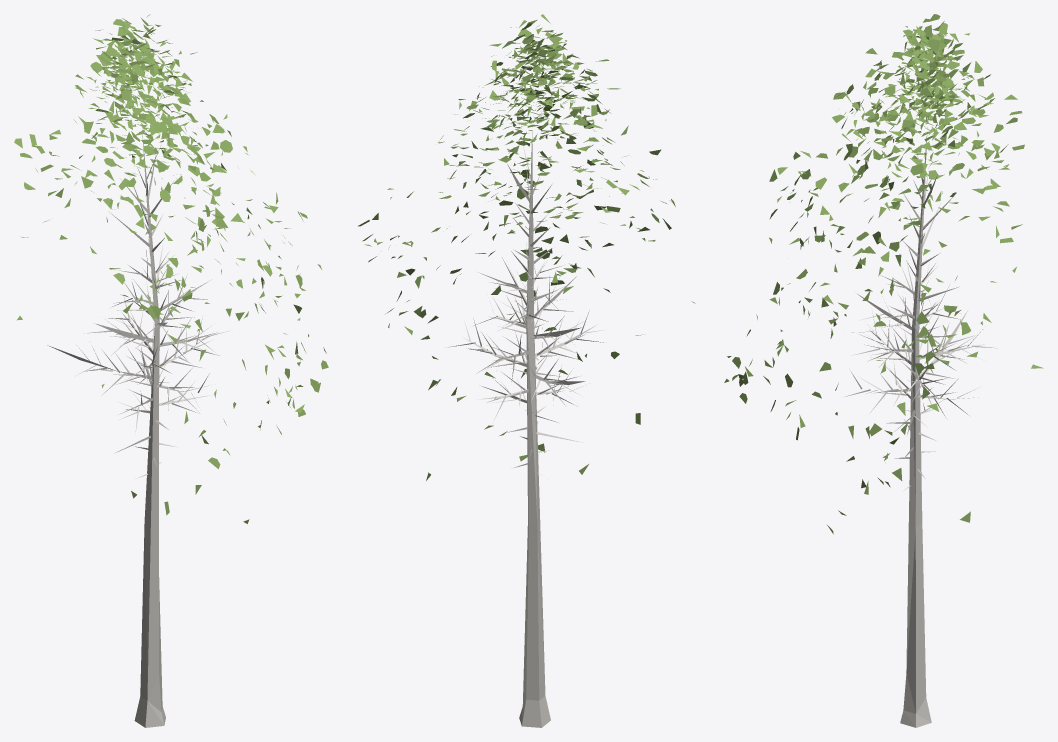
The model's file is tree_quaking_aspen.glb.
3 views of the same model, side by side, from view 1: azimuth 30°, elevation 25°; view 2: azimuth 150°, elevation 25°; view 3: azimuth 270°, elevation 25° (orthographic).
Visible parts, largest first — view 1: leaves, trunk; view 2: leaves, trunk; view 3: leaves, trunk.
Boxes of the visible parts, box(x1,y1,x2,y2) form: leaves: box(14, 14, 328, 523); trunk: box(47, 129, 228, 727); leaves: box(358, 14, 695, 480); trunk: box(448, 130, 606, 727); leaves: box(724, 14, 1043, 534); trunk: box(844, 127, 997, 727).
Size of the model in its own units: 3.04 by 6.98 by 2.92.
